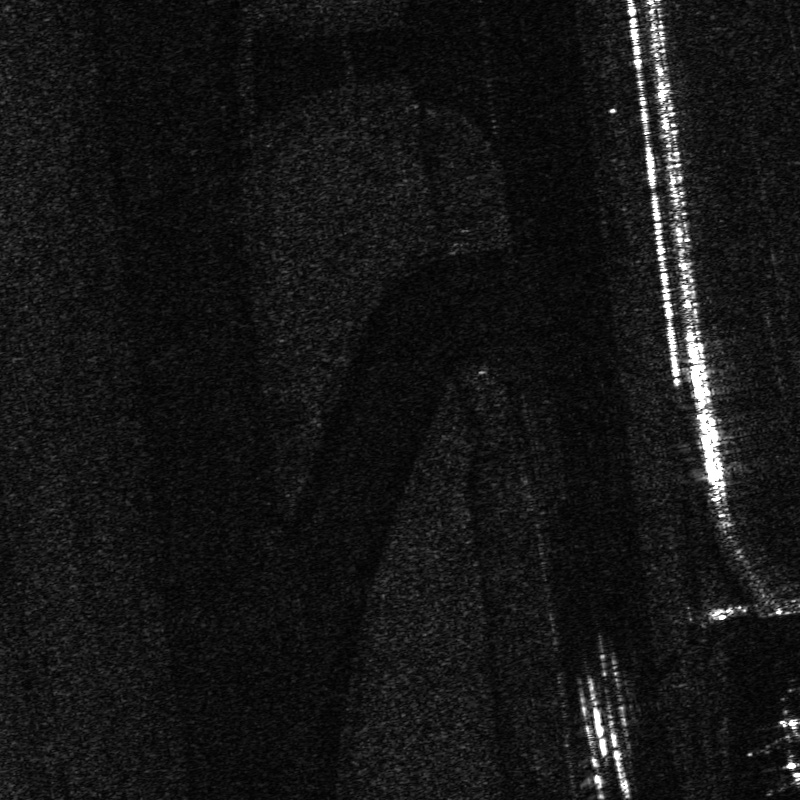A220: (745, 711, 799, 790)
